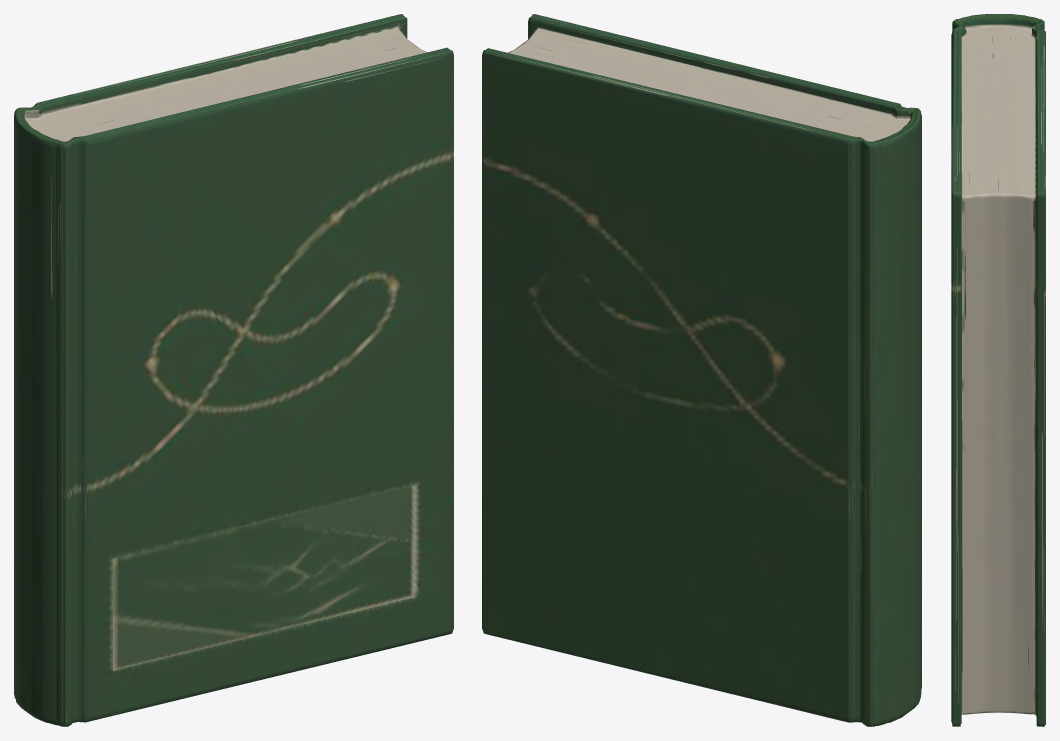
The model's file is stubborn-attachments.glb.
The picture shows the model from 3 angles, left to right: view 1: azimuth 30°, elevation 25°; view 2: azimuth 150°, elevation 25°; view 3: azimuth 270°, elevation 25°; orthographic projection. The views are drawn at different scales.
Visible parts, largest first — view 1: Stubborn Attachments; view 2: Stubborn Attachments; view 3: Stubborn Attachments.
Boxes of the visible parts, box(x1,y1,x2,y2) form: Stubborn Attachments: box(14, 14, 453, 726); Stubborn Attachments: box(482, 14, 921, 726); Stubborn Attachments: box(951, 14, 1045, 726).
Size of the model in its own units: 0.7207 by 0.998 by 0.1621.
Materials: 1 (1 with a texture image).
